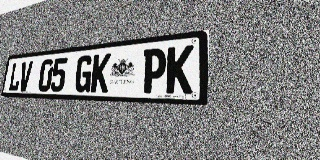0: (37, 59, 54, 92)
5: (50, 57, 68, 92)
G: (74, 55, 94, 92)
K: (165, 45, 194, 94), (90, 53, 111, 93)
L: (8, 62, 22, 91)
P: (141, 47, 167, 93)
V: (18, 61, 33, 91)
